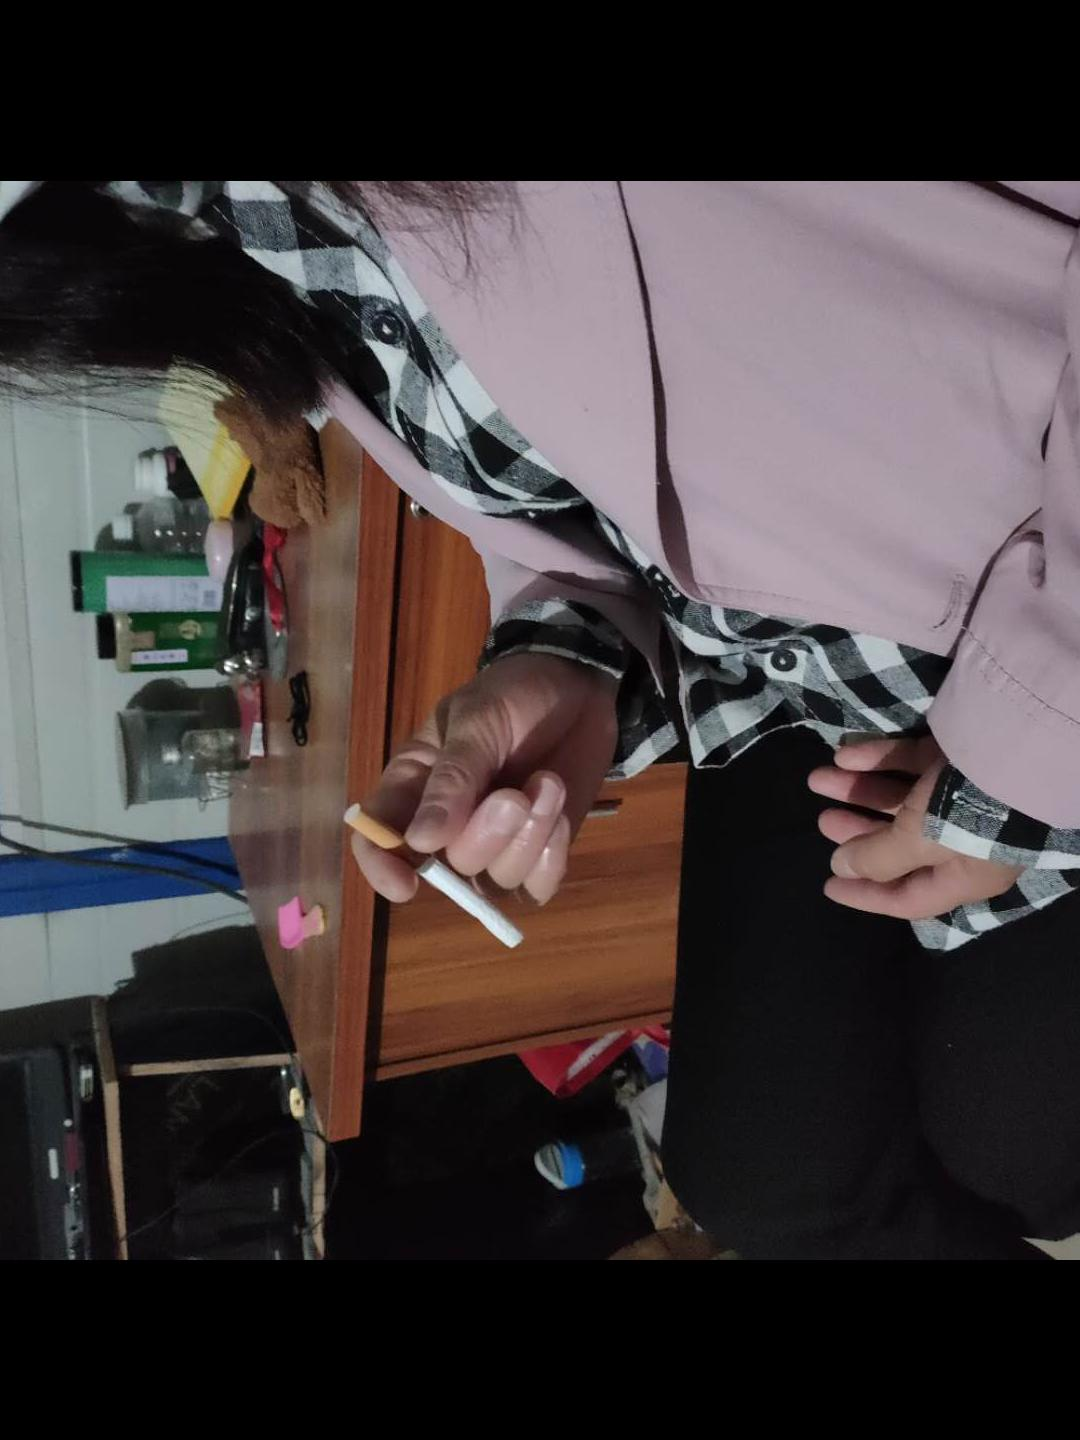Cigarette: (337, 806, 530, 942)
